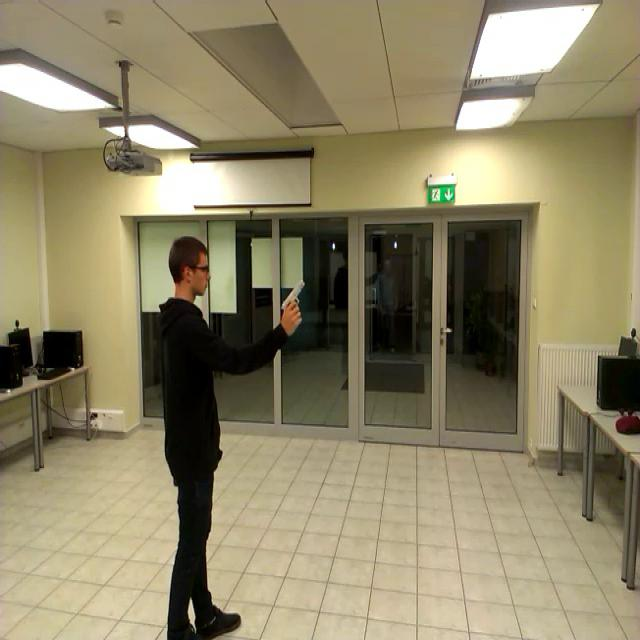handgun: (280, 276, 310, 329)
